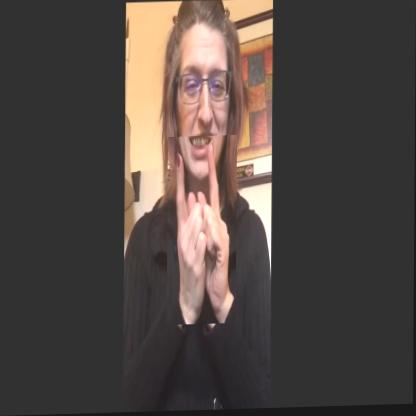NiceToMeetYou: (167, 136, 237, 326)
